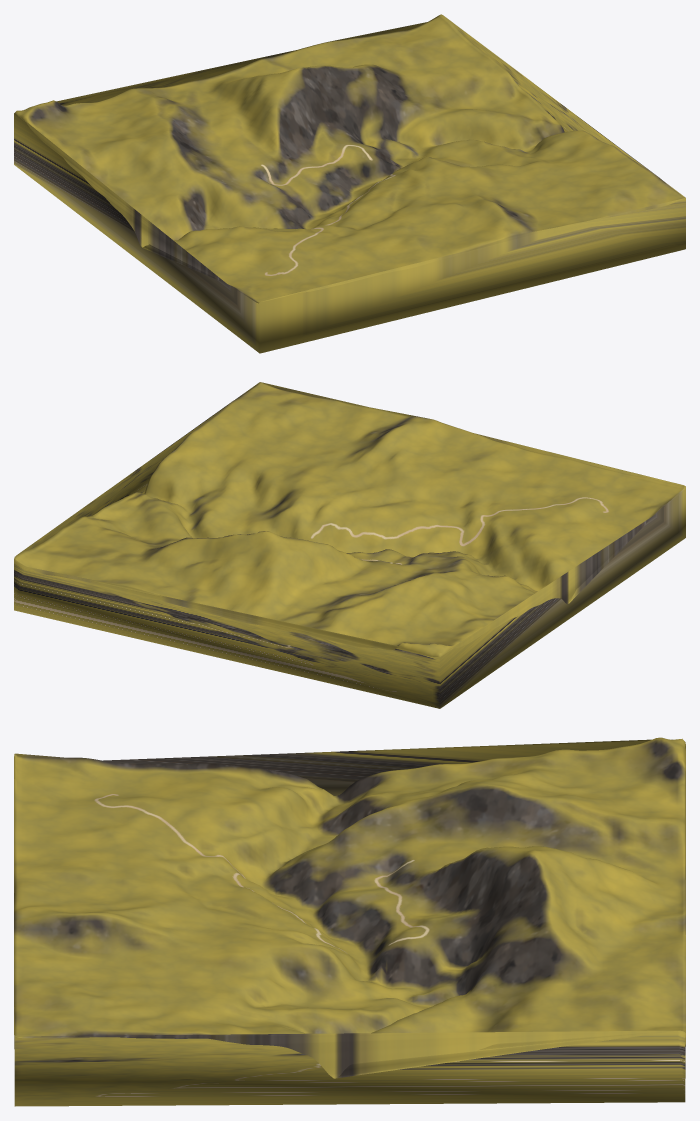
File: Terrain_Test.fbx
3 views of the same model, one above another, from view 1: azimuth 30°, elevation 25°; view 2: azimuth 150°, elevation 25°; view 3: azimuth 270°, elevation 25° (orthographic). The views are drawn at different scales.
Visible parts, largest first — view 1: Terrain; view 2: Terrain; view 3: Terrain.
Part boxes in pixels (x1,y1,x2,y2): Terrain: [14, 14, 685, 353]; Terrain: [14, 382, 685, 708]; Terrain: [14, 737, 685, 1106].
Bounding box in the file's own units: 199 × 40 × 199.
Materials: 1 (1 with a texture image).
